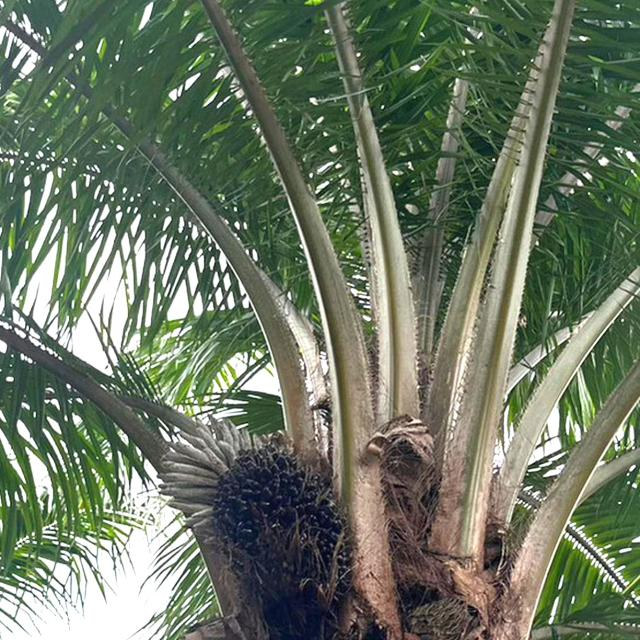unripe: (215, 450, 356, 640)
